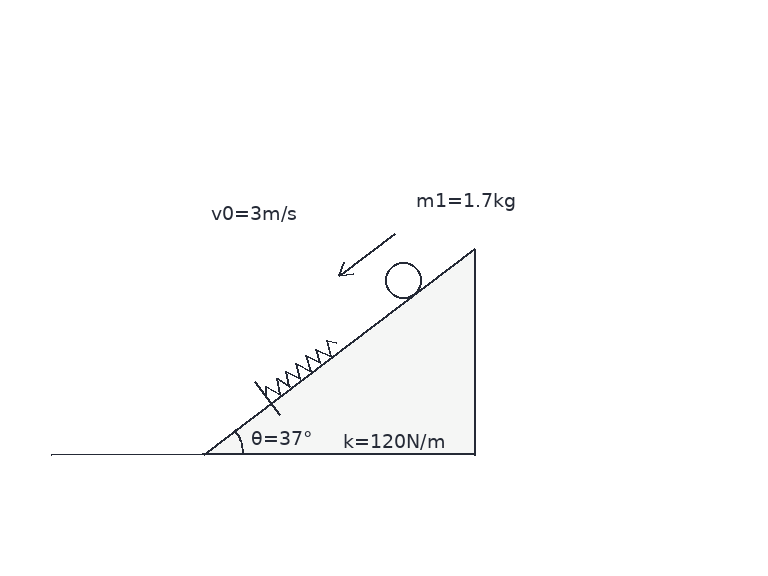ball: (383, 260, 423, 300)
ramp: (201, 247, 477, 456)
spring: (263, 339, 338, 398)
